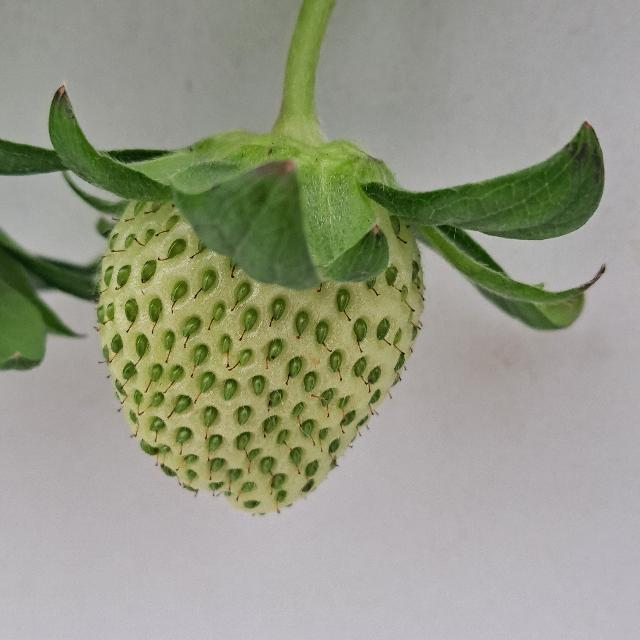Health_25: (96, 197, 424, 515)
